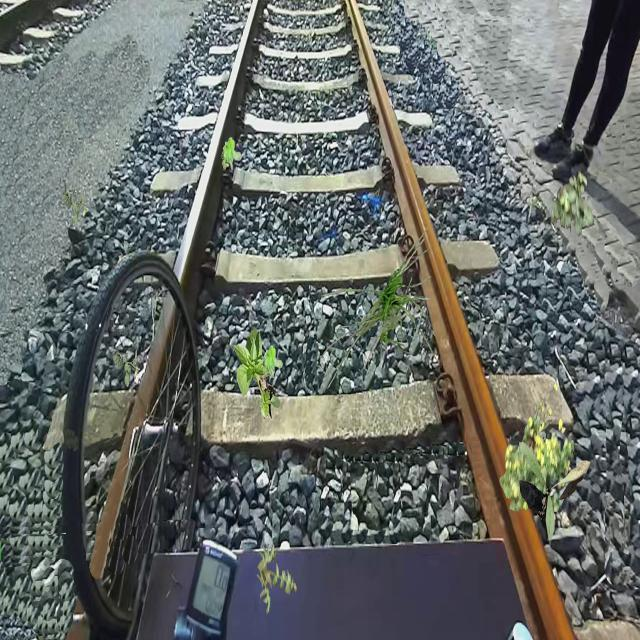Plant: (320, 226, 438, 390), (499, 382, 574, 522), (519, 442, 590, 542), (233, 327, 281, 422), (256, 543, 298, 614), (551, 170, 594, 236), (113, 346, 140, 387), (61, 186, 88, 227), (221, 137, 242, 170), (262, 345, 282, 378)
